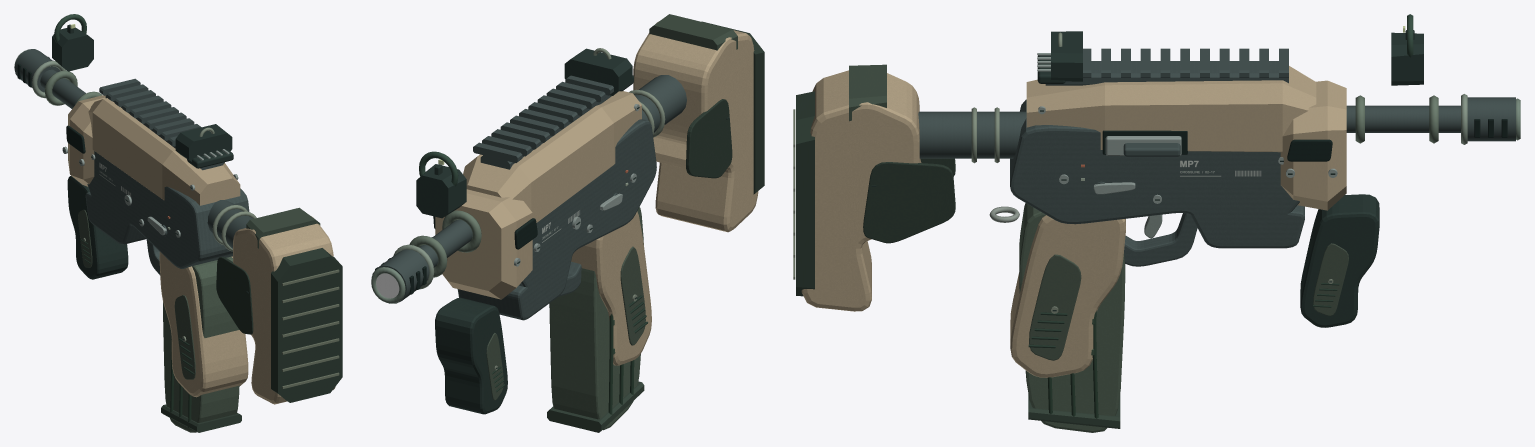
3 renders of one model, left to right at view 1: azimuth 30°, elevation 25°; view 2: azimuth 150°, elevation 25°; view 3: azimuth 270°, elevation 25°, orthographic. The views are drawn at different scales.
Visible parts, largest first — view 1: mp7, magazine; view 2: mp7, magazine; view 3: mp7, magazine, bolt.
Part boxes in pixels (bbox=[...]): mp7: bbox=[14, 14, 342, 404]; magazine: bbox=[161, 256, 241, 432]; mp7: bbox=[371, 14, 764, 414]; magazine: bbox=[547, 207, 644, 432]; mp7: bbox=[793, 14, 1520, 377]; magazine: bbox=[1019, 203, 1125, 432]; bolt: bbox=[1105, 136, 1181, 156].
Size of the model in its own units: 0.1552 by 0.5888 by 0.9578.
Materials: 30 (16 with a texture image).
